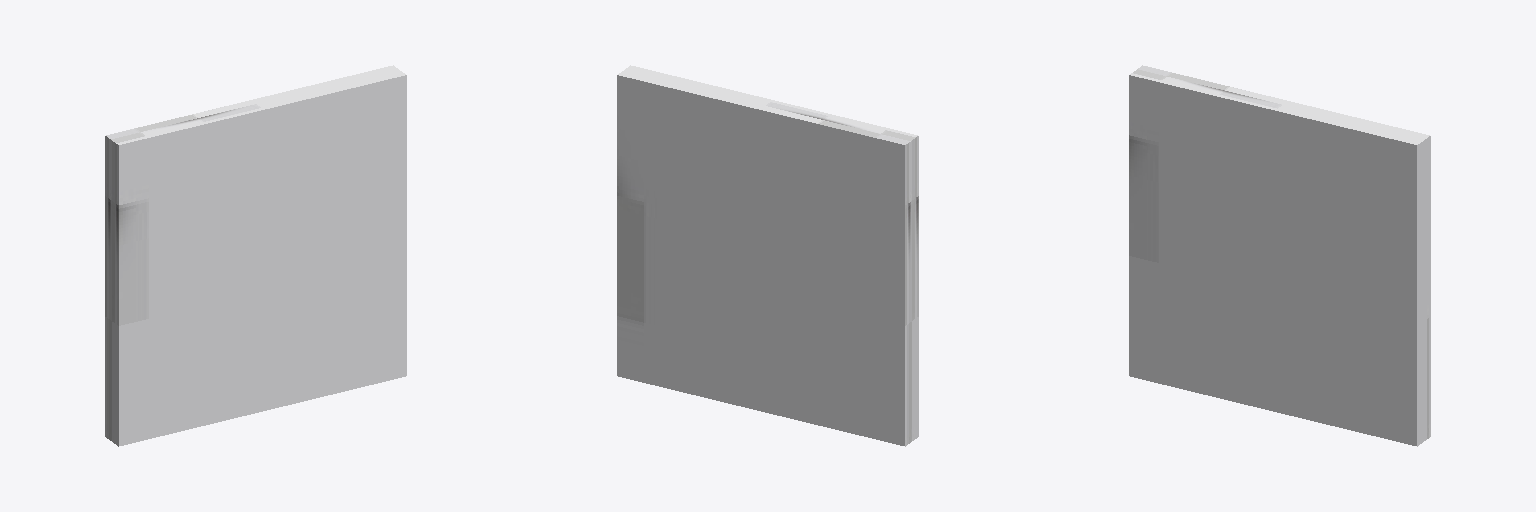
3 renders of one model, left to right at view 1: azimuth 30°, elevation 25°; view 2: azimuth 150°, elevation 25°; view 3: azimuth 330°, elevation 25°, orthographic.
Visible parts, largest first — view 1: Cube; view 2: Cube; view 3: Cube.
Part boxes in pixels (bbox=[...]): Cube: bbox=[105, 65, 406, 446]; Cube: bbox=[617, 65, 918, 446]; Cube: bbox=[1129, 65, 1430, 446].
Bounding box in the file's own units: 4 × 4 × 0.3202.
Materials: 1 (1 with a texture image).